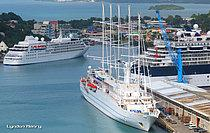Ship: (1, 29, 93, 68)
